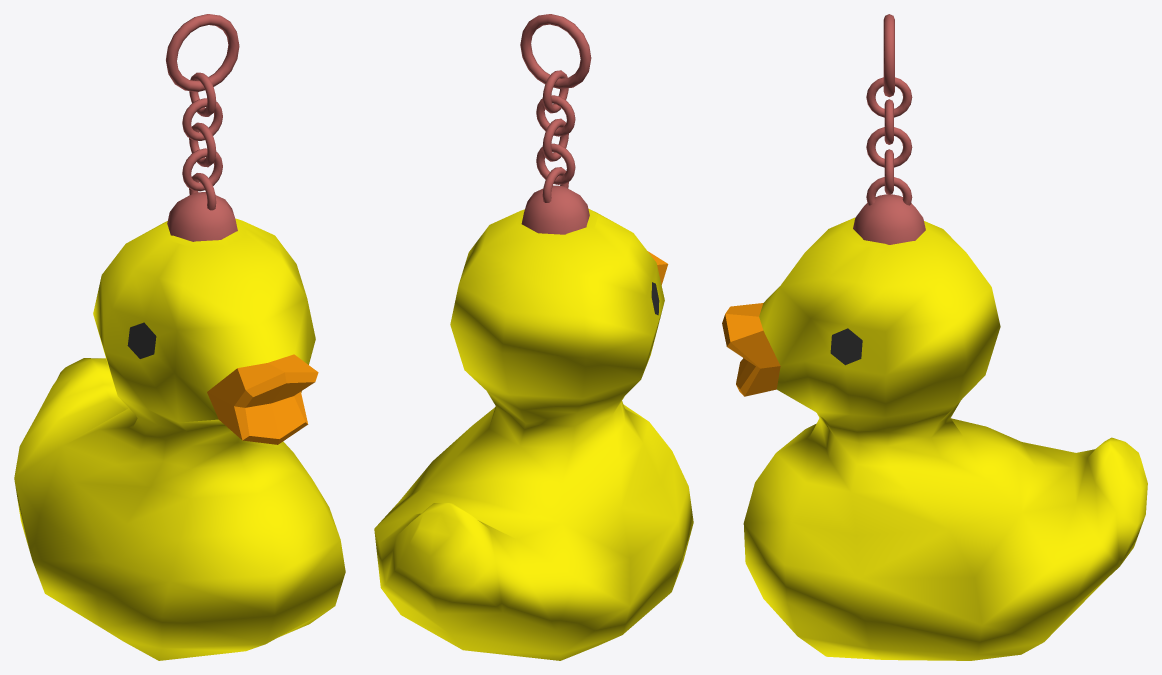
The model's file is DuckChain.fbx.
The picture shows the model from 3 angles, left to right: view 1: azimuth 30°, elevation 25°; view 2: azimuth 150°, elevation 25°; view 3: azimuth 270°, elevation 25°; orthographic projection. The views are drawn at different scales.
Visible parts, largest first — view 1: Duck; view 2: Duck; view 3: Duck.
Boxes of the visible parts, <box> form: Duck: <box>14,14,345,660</box>; Duck: <box>374,14,693,660</box>; Duck: <box>722,14,1147,660</box>.
Bounding box in the file's own units: 77.99 × 182 × 117.
